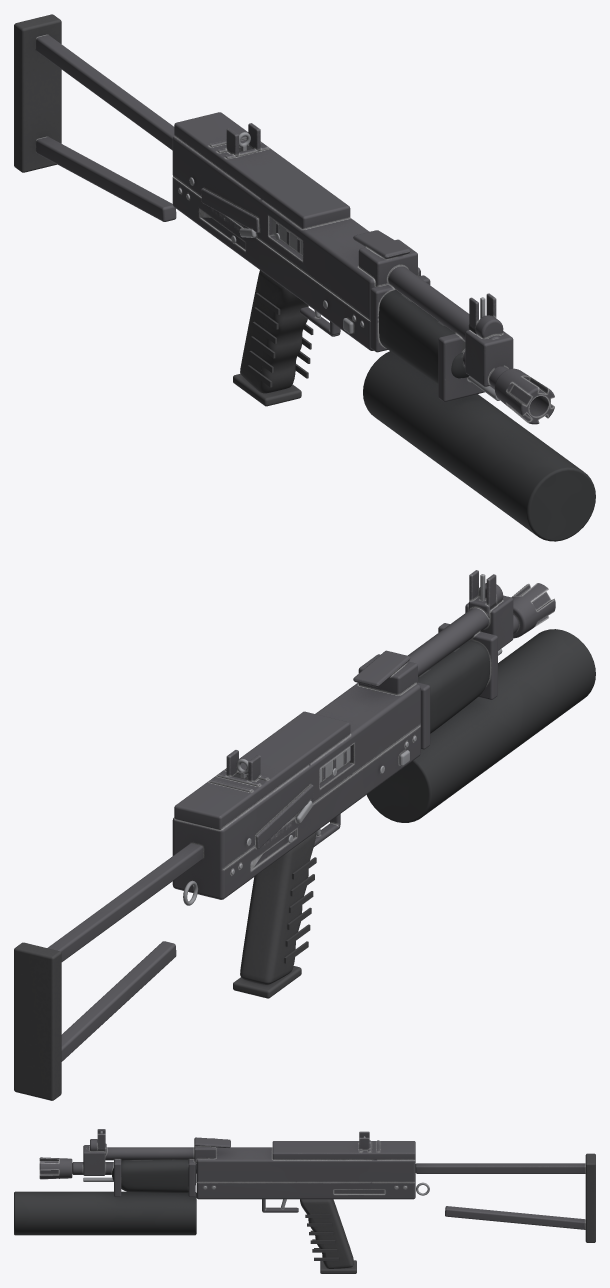
Rendered from bizon.fbx.
3 renders of one model, top to bottom at view 1: azimuth 30°, elevation 25°; view 2: azimuth 150°, elevation 25°; view 3: azimuth 270°, elevation 25°, orthographic. The views are drawn at different scales.
Visible parts, largest first — view 1: bizon; view 2: bizon; view 3: bizon.
Boxes of the visible parts, x1=… form: bizon: x1=14, y1=14, x2=595, y2=541; bizon: x1=14, y1=570, x2=595, y2=1100; bizon: x1=14, y1=1129, x2=595, y2=1273.
Size of the model in its own units: 0.06 by 0.2083 by 0.797.
